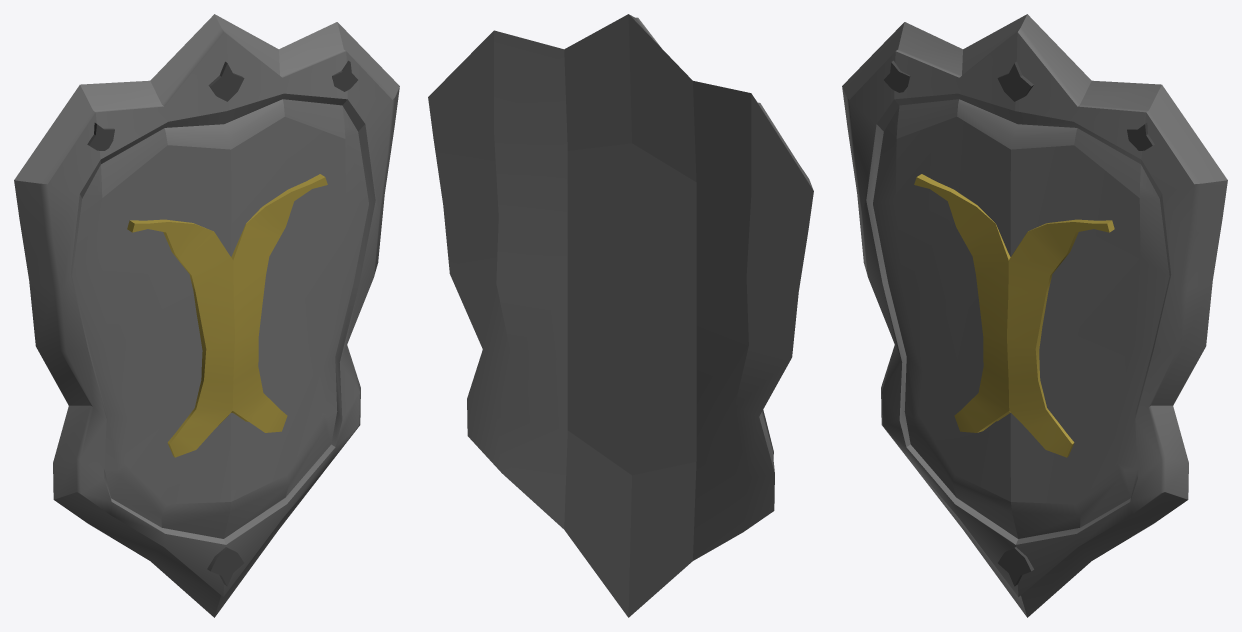
The model's file is Escudo.fbx.
The picture shows the model from 3 angles, left to right: view 1: azimuth 30°, elevation 25°; view 2: azimuth 150°, elevation 25°; view 3: azimuth 330°, elevation 25°; orthographic projection.
Visible parts, largest first — view 1: pCube1, pCube2, pCylinder2, pCylinder3, pCylinder1; view 2: pCube1; view 3: pCube1, pCube2, pCylinder2, pCylinder1, pCylinder3.
Boxes of the visible parts, <box> form: pCube1: <box>14,14,399,617</box>; pCube2: <box>127,174,327,457</box>; pCylinder2: <box>87,60,357,150</box>; pCylinder3: <box>207,547,243,586</box>; pCylinder1: <box>208,61,244,101</box>; pCube1: <box>428,14,813,617</box>; pCube1: <box>842,14,1227,617</box>; pCube2: <box>914,174,1114,457</box>; pCylinder2: <box>884,60,1154,150</box>; pCylinder1: <box>997,61,1033,101</box>; pCylinder3: <box>998,547,1033,586</box>.
Size of the model in its own units: 0.9997 by 1.5 by 0.1261.
